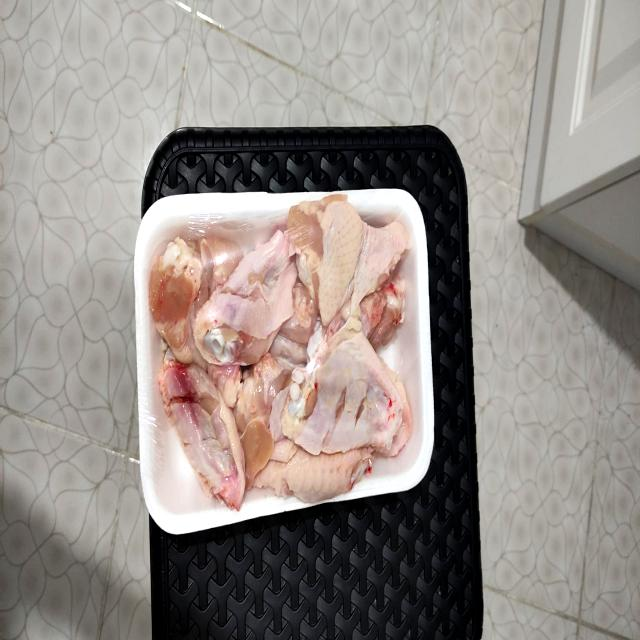chicken: (137, 184, 429, 513)
